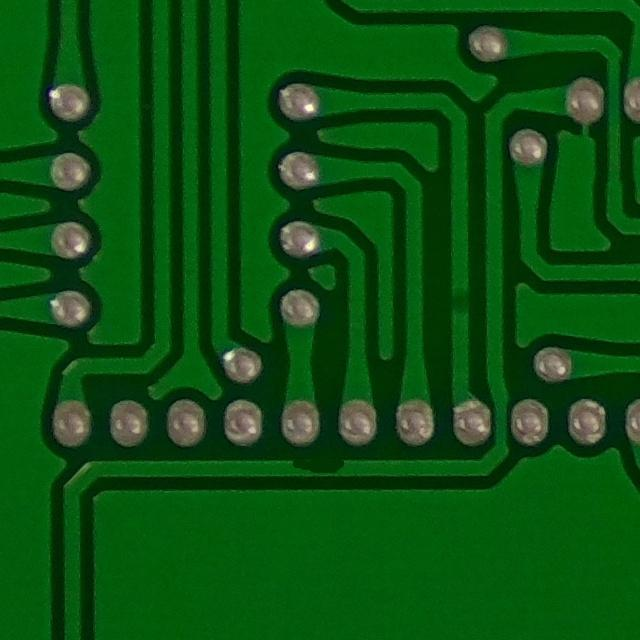mouse_bite: (278, 452, 356, 485)
